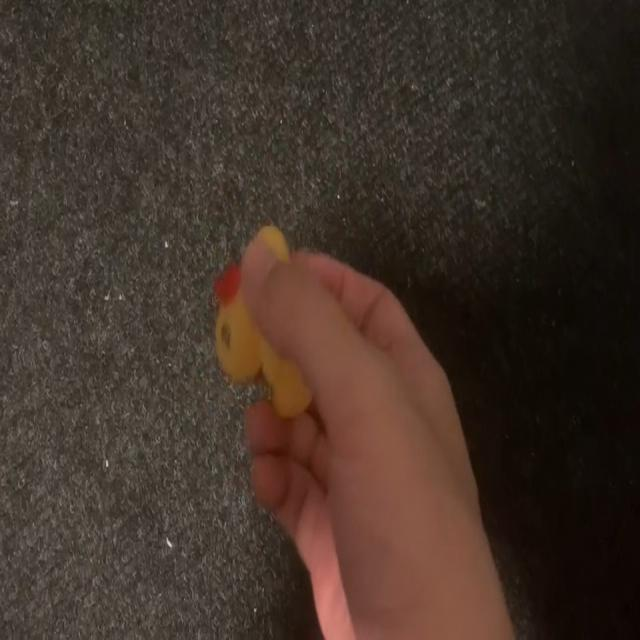rubber-duck: (213, 262, 309, 416)
